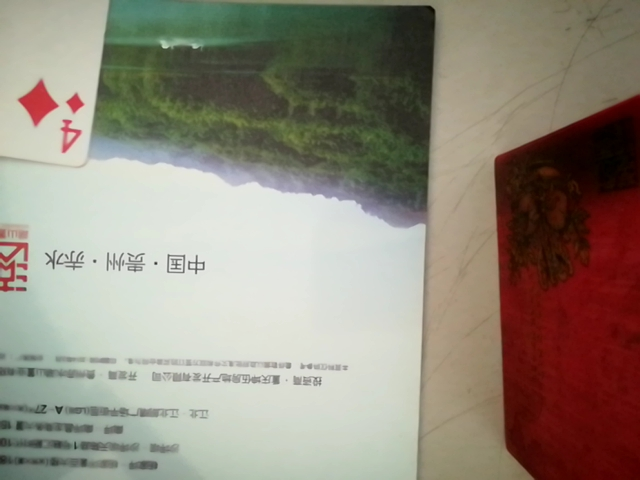fk 4: (3, 0, 128, 185)
